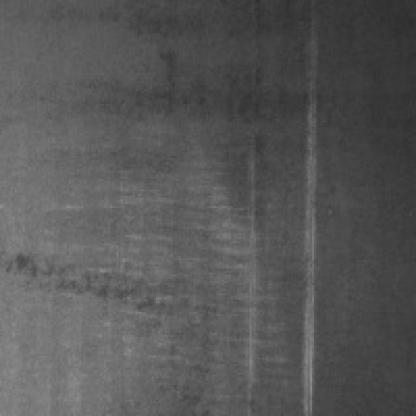scratches: (294, 38, 316, 406)
